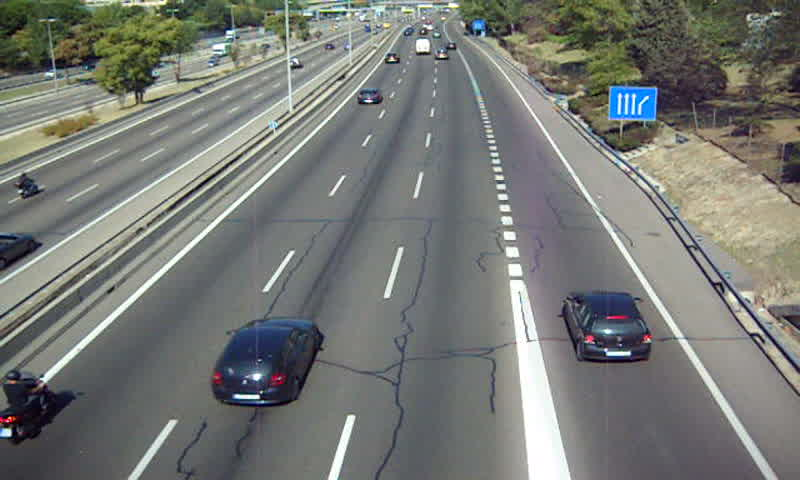car: (212, 318, 319, 406), (564, 293, 650, 362), (357, 89, 382, 106)
motorcycle: (1, 370, 53, 446)
